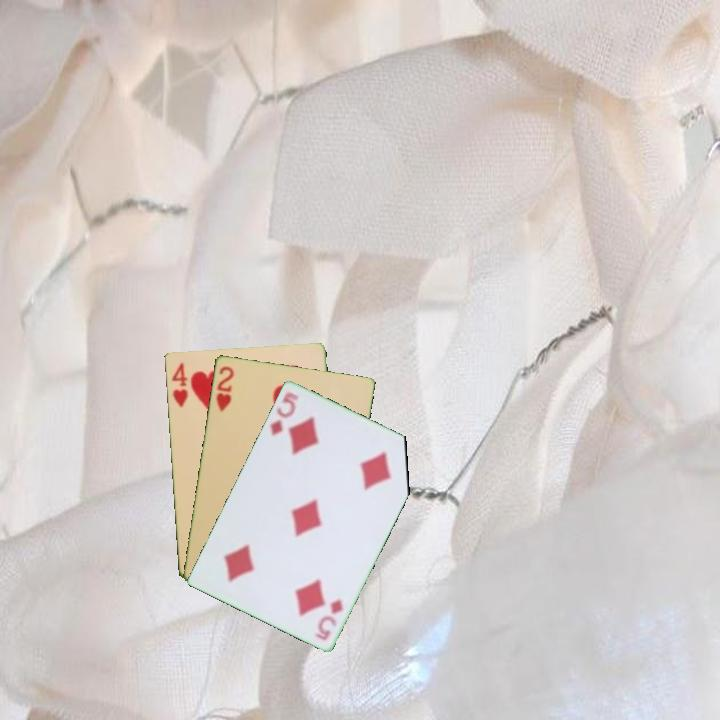2h: (213, 362, 237, 414)
4h: (168, 359, 191, 410)
5d: (266, 388, 301, 439), (311, 595, 347, 643)
